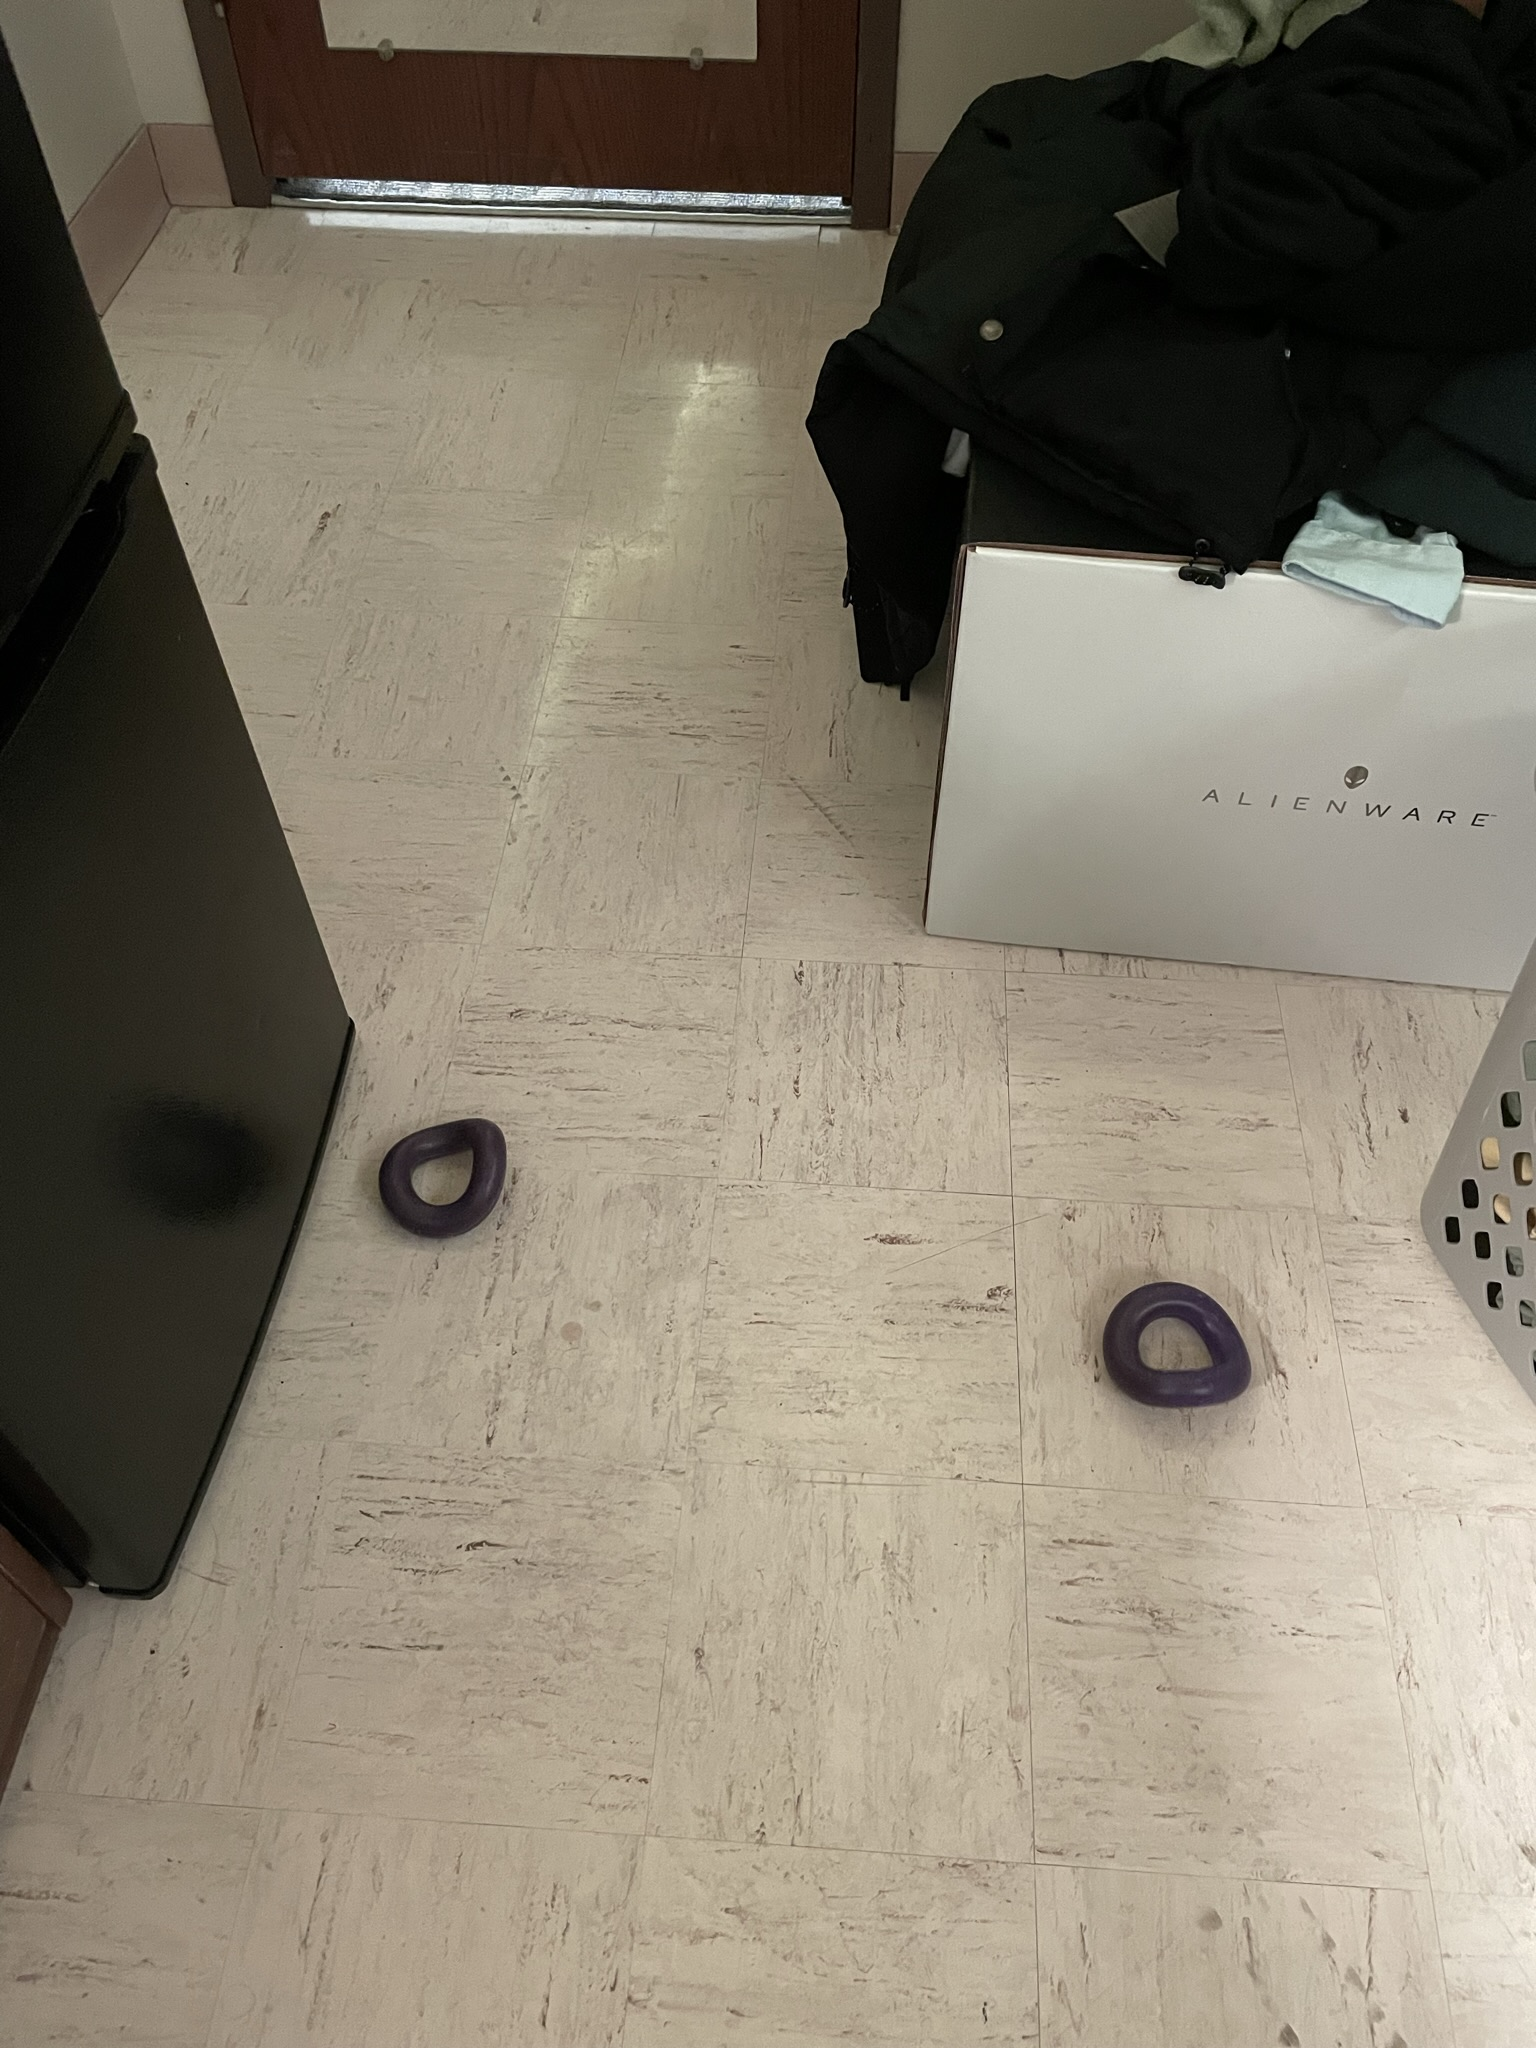ring: (1099, 1280, 1250, 1408), (378, 1118, 507, 1242)
